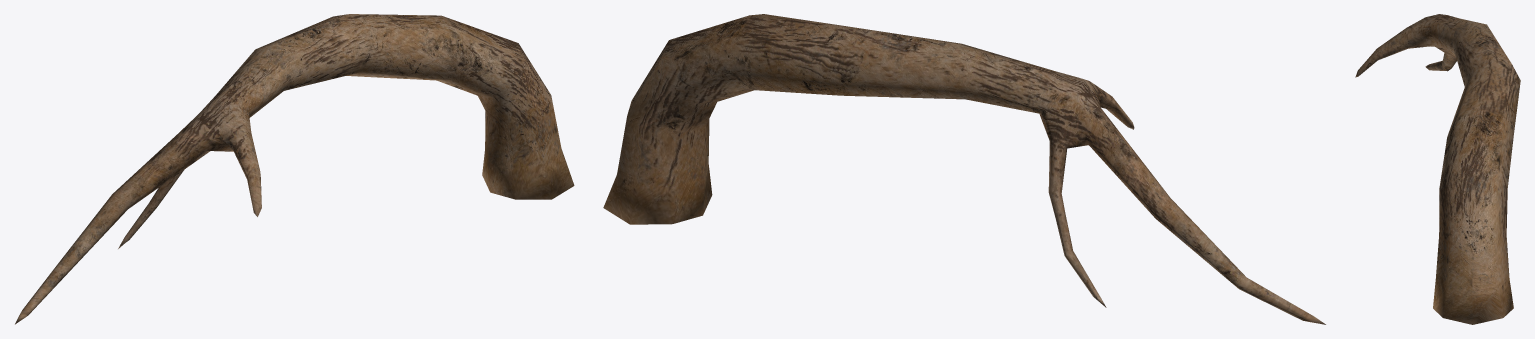
File: Roots1.fbx
3 renders of one model, left to right at view 1: azimuth 30°, elevation 25°; view 2: azimuth 150°, elevation 25°; view 3: azimuth 270°, elevation 25°, orthographic. The views are drawn at different scales.
Visible parts, largest first — view 1: 2x1roots; view 2: 2x1roots; view 3: 2x1roots.
Boxes of the visible parts, x1,y1,x2,y2 form: 2x1roots: [15, 14, 574, 324]; 2x1roots: [603, 14, 1325, 324]; 2x1roots: [1355, 14, 1520, 324].
Size of the model in its own units: 885 by 301 by 248.
1 material, 1 textured.
